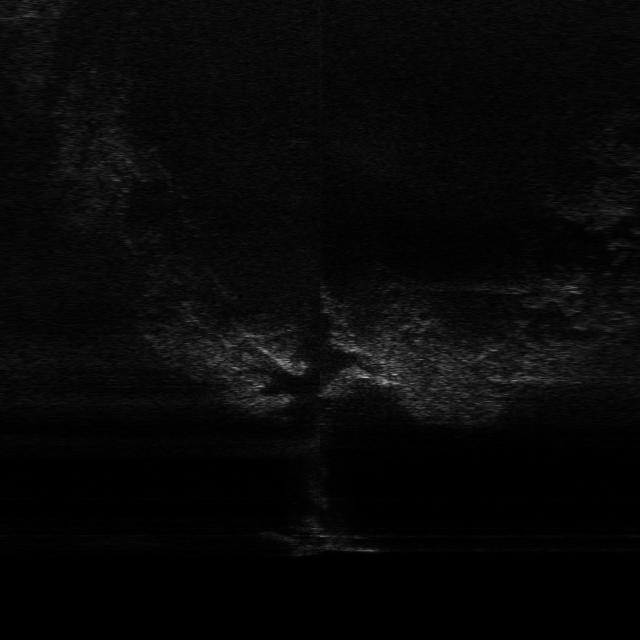plane: (257, 511, 387, 557)
